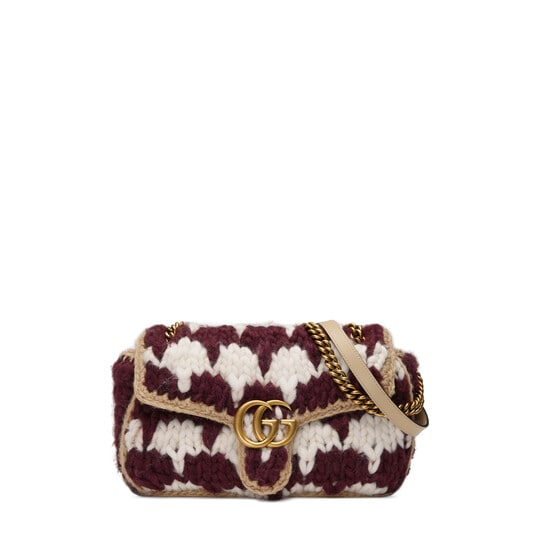Gucci: (117, 312, 422, 498), (233, 390, 315, 462)
